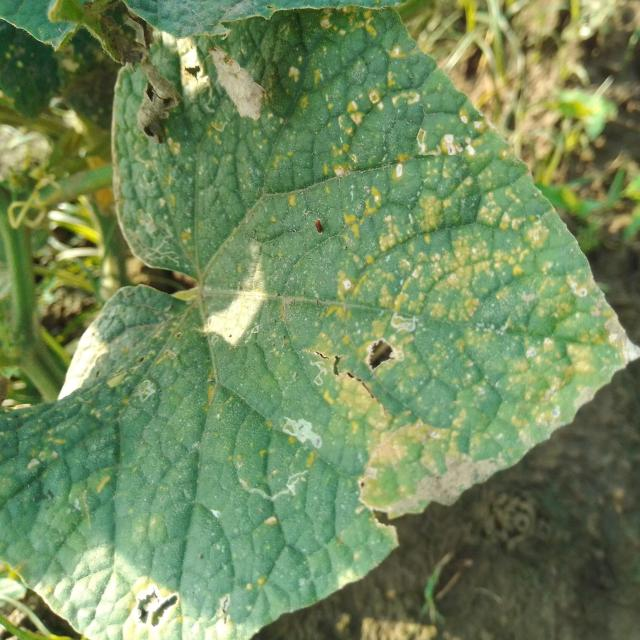cucumber_downy: (135, 80, 624, 616)
